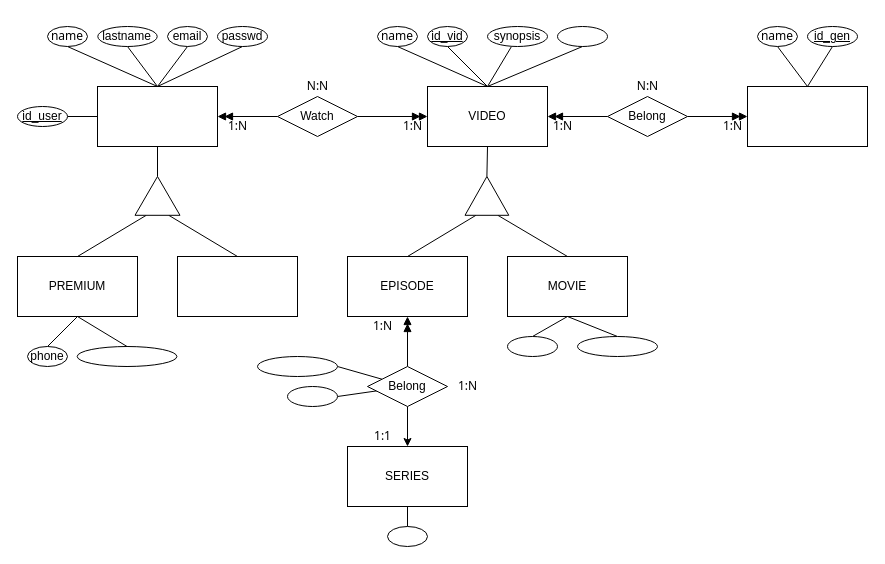
This 885x564 diagram has some shape labels left out. Each missing label, with the centre of its shape:
"director" goes at point 532,346.
"duration" goes at point 582,36.
"ep_number" goes at point 297,366.
"espiration_date" goes at point 126,356.
"GENRE" goes at point 807,116.
"imdb_score" goes at point 617,346.
"season" goes at point 312,396.
"ser_id" goes at point 407,536.
"STANDARD" goes at point 237,286.
"USER" goes at point 157,116.
